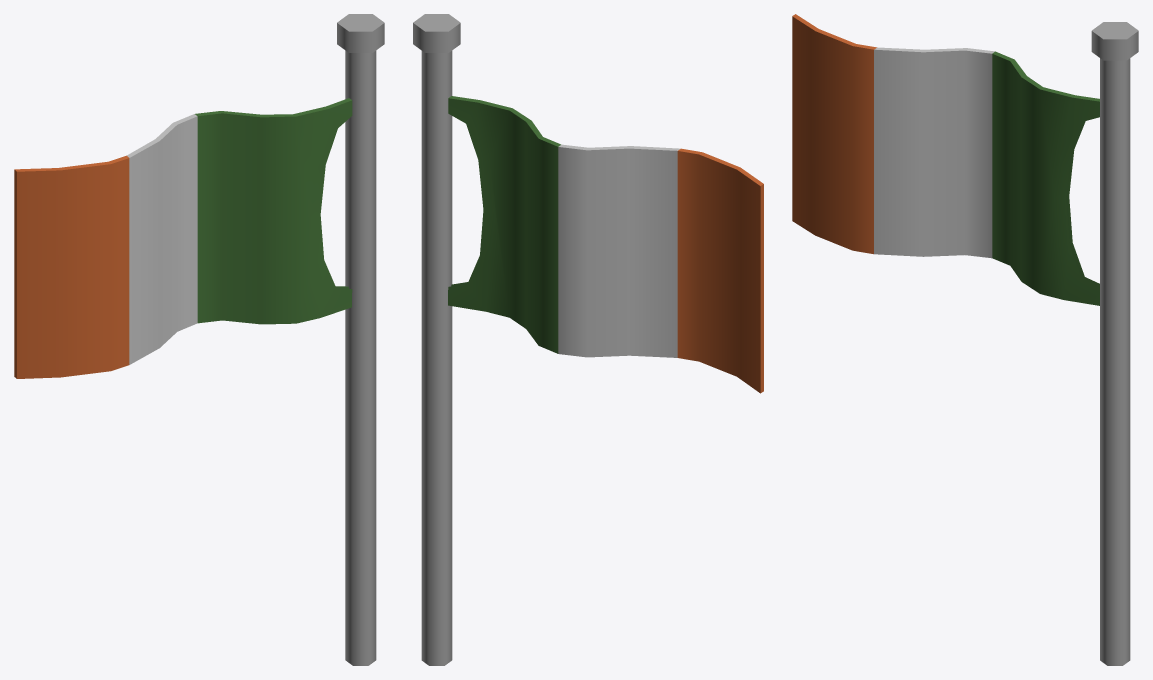
The model's file is IrishFlag_01.fbx.
3 views of the same model, side by side, from view 1: azimuth 30°, elevation 25°; view 2: azimuth 150°, elevation 25°; view 3: azimuth 330°, elevation 25° (orthographic).
Visible parts, largest first — view 1: IrishFlag_01; view 2: IrishFlag_01; view 3: IrishFlag_01.
Boxes of the visible parts, x1,y1,x2,y2 form: IrishFlag_01: [14, 14, 384, 665]; IrishFlag_01: [413, 14, 763, 665]; IrishFlag_01: [792, 14, 1138, 665].
Size of the model in its own units: 0.3507 by 0.6048 by 0.0593.
